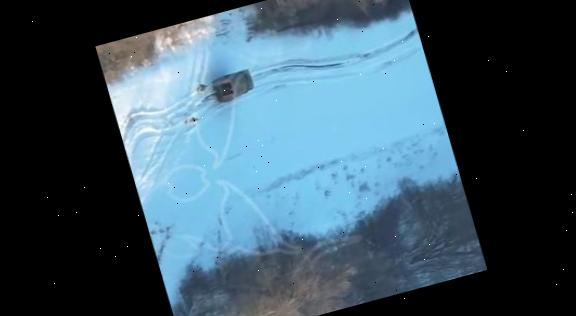person: (182, 114, 200, 126), (189, 82, 208, 93)
truck: (210, 66, 257, 102)
